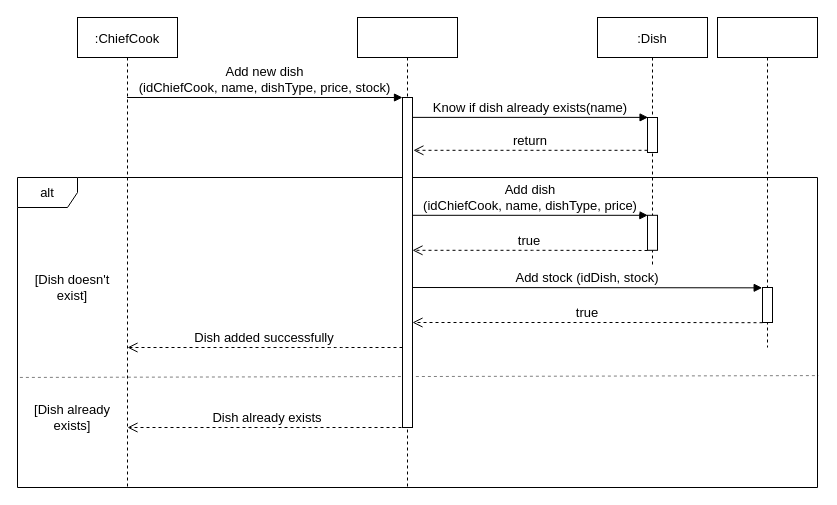
Image size: 837x505. Some labels were removed from this diagram. Each missing label, with the box of its shape:
:DishStock: (716, 16, 818, 348)
:System: (356, 16, 458, 488)
